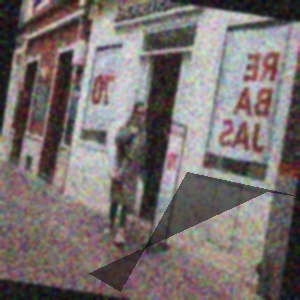women_secret: (96, 9, 277, 12)
